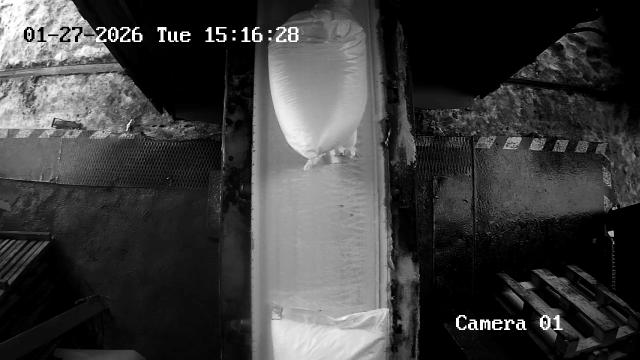bag: (268, 2, 367, 168), (272, 301, 389, 360)
